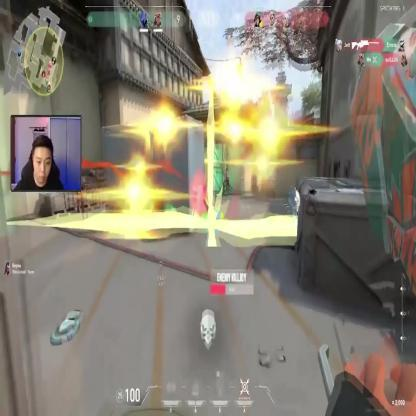enemy: (222, 164, 232, 192)
enemy_head: (224, 166, 228, 170)
